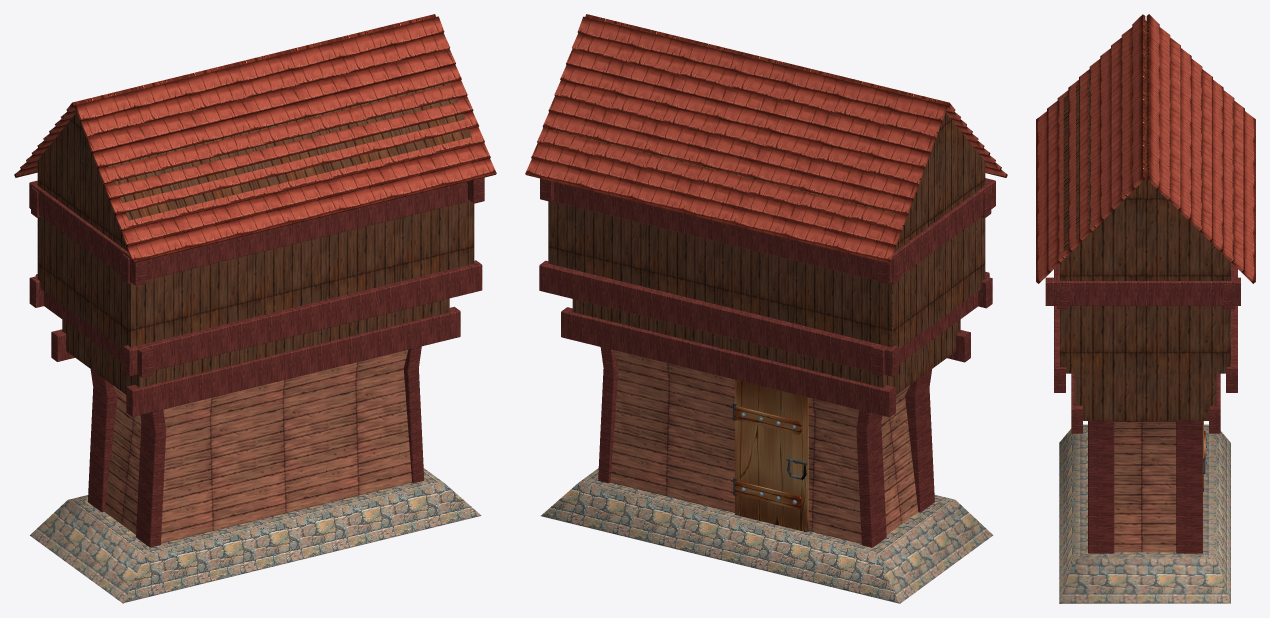
Rendered from building 4 new.FBX.
3 renders of one model, left to right at view 1: azimuth 30°, elevation 25°; view 2: azimuth 150°, elevation 25°; view 3: azimuth 270°, elevation 25°, orthographic. The views are drawn at different scales.
Parts seen in each view (by area): view 1: Box043, Group003, Plane677, Plane678; view 2: Box043, Group003, Plane678, Box932, Plane677; view 3: Box043, Group003, Plane678, Plane677.
Boxes of the visible parts, bbox=[...] form: Box043: bbox=[37, 82, 474, 543]; Group003: bbox=[29, 177, 484, 603]; Plane677: bbox=[74, 16, 496, 263]; Plane678: bbox=[14, 14, 436, 177]; Box043: bbox=[548, 19, 985, 543]; Group003: bbox=[539, 178, 995, 603]; Plane678: bbox=[525, 16, 947, 263]; Box932: bbox=[732, 380, 808, 532]; Plane677: bbox=[585, 14, 1007, 177]; Box043: bbox=[1060, 20, 1230, 552]; Group003: bbox=[1045, 262, 1240, 603]; Plane678: bbox=[1146, 14, 1255, 283]; Plane677: bbox=[1036, 14, 1145, 283].
Bounding box in the file's own units: 508 × 623 × 290.
